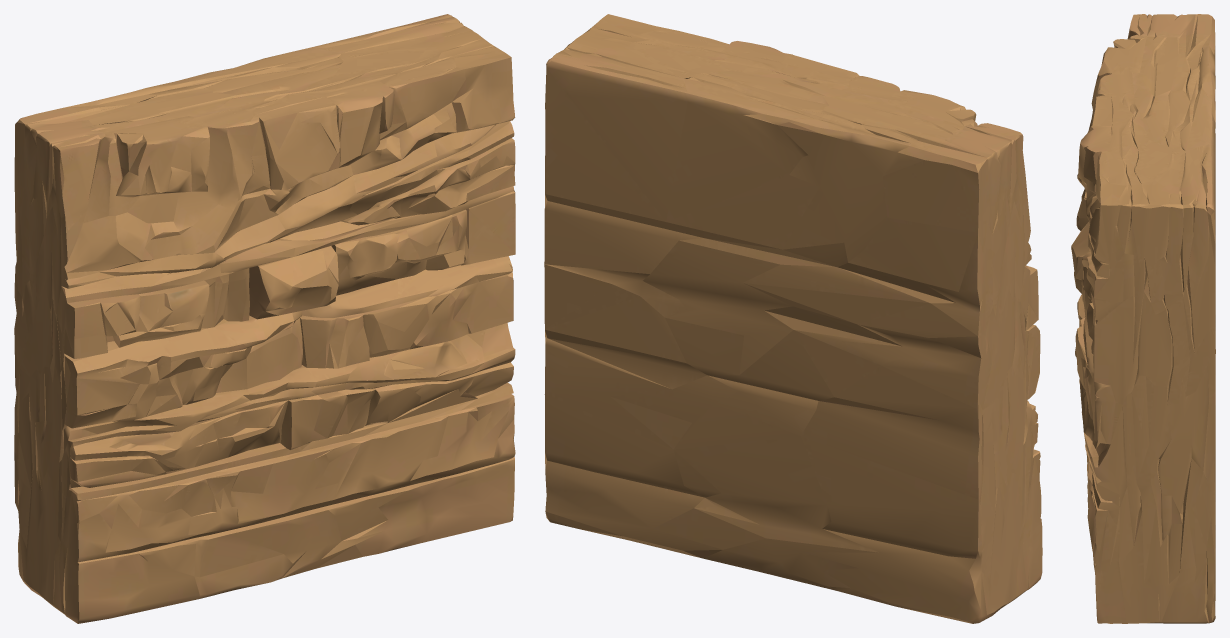
Rendered from Cliff_Sandstone_Section.glb.
The picture shows the model from 3 angles, left to right: view 1: azimuth 30°, elevation 25°; view 2: azimuth 150°, elevation 25°; view 3: azimuth 270°, elevation 25°; orthographic projection. The views are drawn at different scales.
Bounding box in the file's own units: 1.88 × 1.9 × 0.5956.
1 material, 1 textured.
